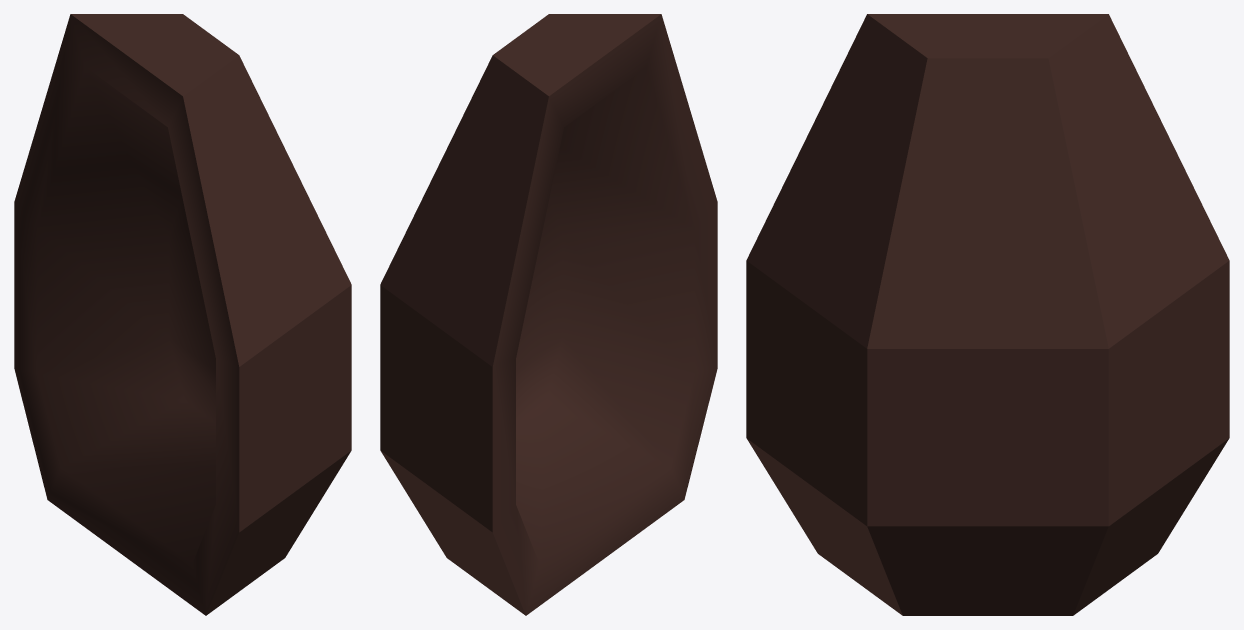
File: peel_visual.obj
The picture shows the model from 3 angles, left to right: view 1: azimuth 30°, elevation 25°; view 2: azimuth 150°, elevation 25°; view 3: azimuth 270°, elevation 25°; orthographic projection. The views are drawn at different scales.
Visible parts, largest first — view 1: avocadoHalf.015; view 2: avocadoHalf.015; view 3: avocadoHalf.015.
Boxes of the visible parts, x1,y1,x2,y2 form: avocadoHalf.015: (14, 14, 351, 615); avocadoHalf.015: (380, 14, 717, 615); avocadoHalf.015: (746, 14, 1229, 615).
Bounding box in the file's own units: 0.0751 × 0.2137 × 0.1734.
